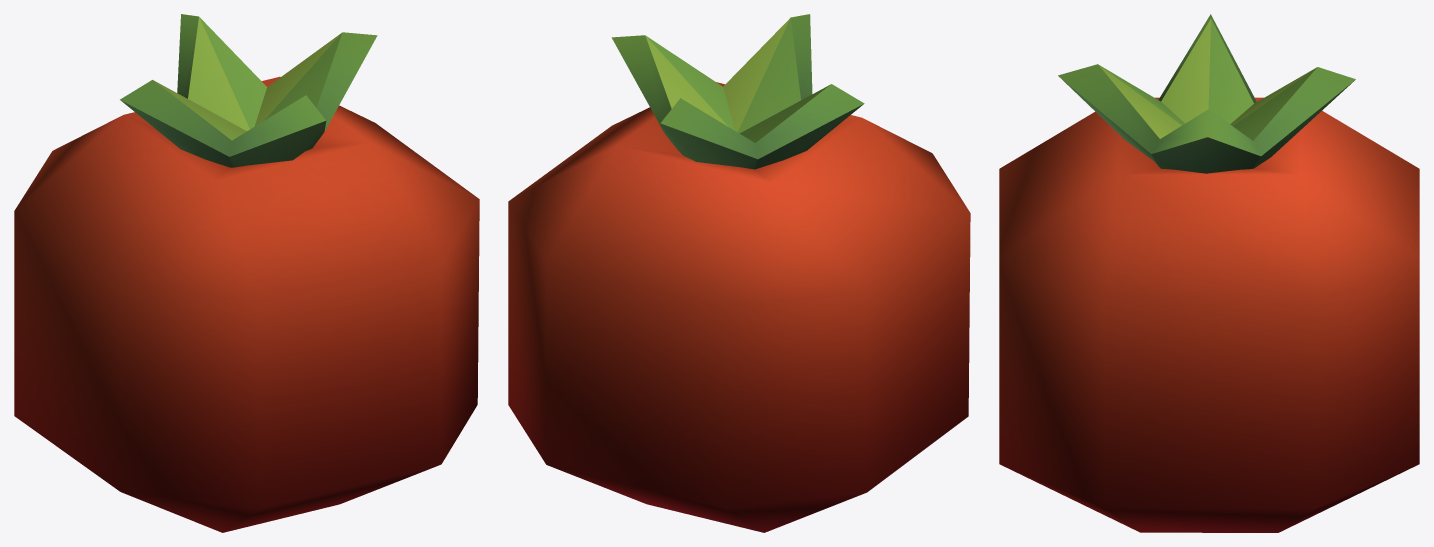
Rendered from tomato_cherry.fbx.
3 renders of one model, left to right at view 1: azimuth 30°, elevation 25°; view 2: azimuth 150°, elevation 25°; view 3: azimuth 270°, elevation 25°, orthographic.
Visible parts, largest first — view 1: tomato_cherry; view 2: tomato_cherry; view 3: tomato_cherry.
Part boxes in pixels (left/top/right/bottom): tomato_cherry: left=14, top=14, right=479, bottom=532; tomato_cherry: left=508, top=14, right=970, bottom=532; tomato_cherry: left=999, top=14, right=1419, bottom=532.
Bounding box in the file's own units: 6.08 × 7.05 × 6.08.
